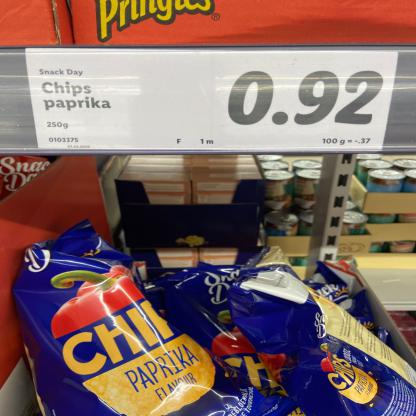prtg: (26, 49, 400, 150)
